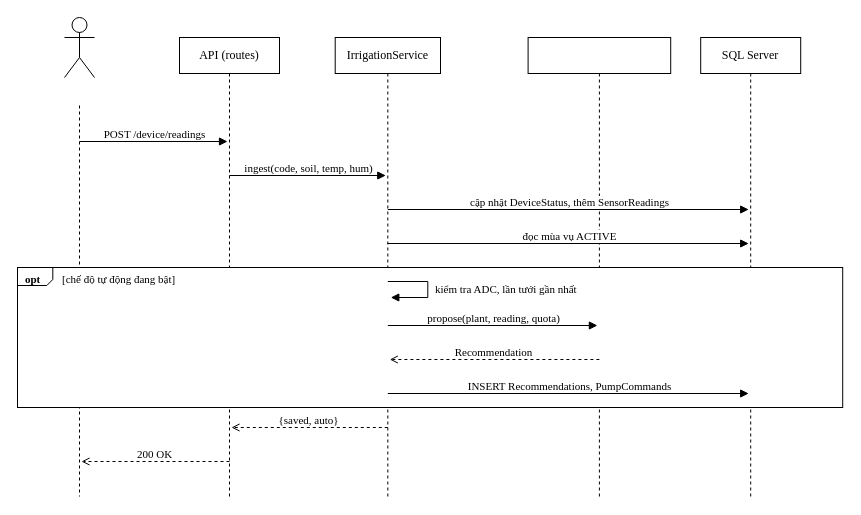
Image size: 861x515. Some labels were removed from this diagram. The shapes that lost their labels are listed below. From the top down, each one's centre as x and y in pixels, then its label:
point (79, 47): ESP32
point (599, 55): RecommendationEngine
